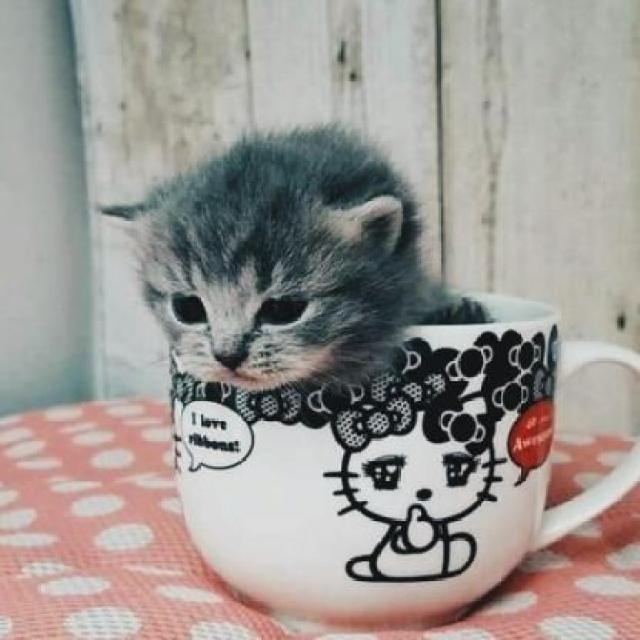cat: (110, 117, 490, 415)
